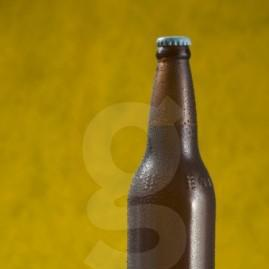beer: (128, 37, 217, 269)
